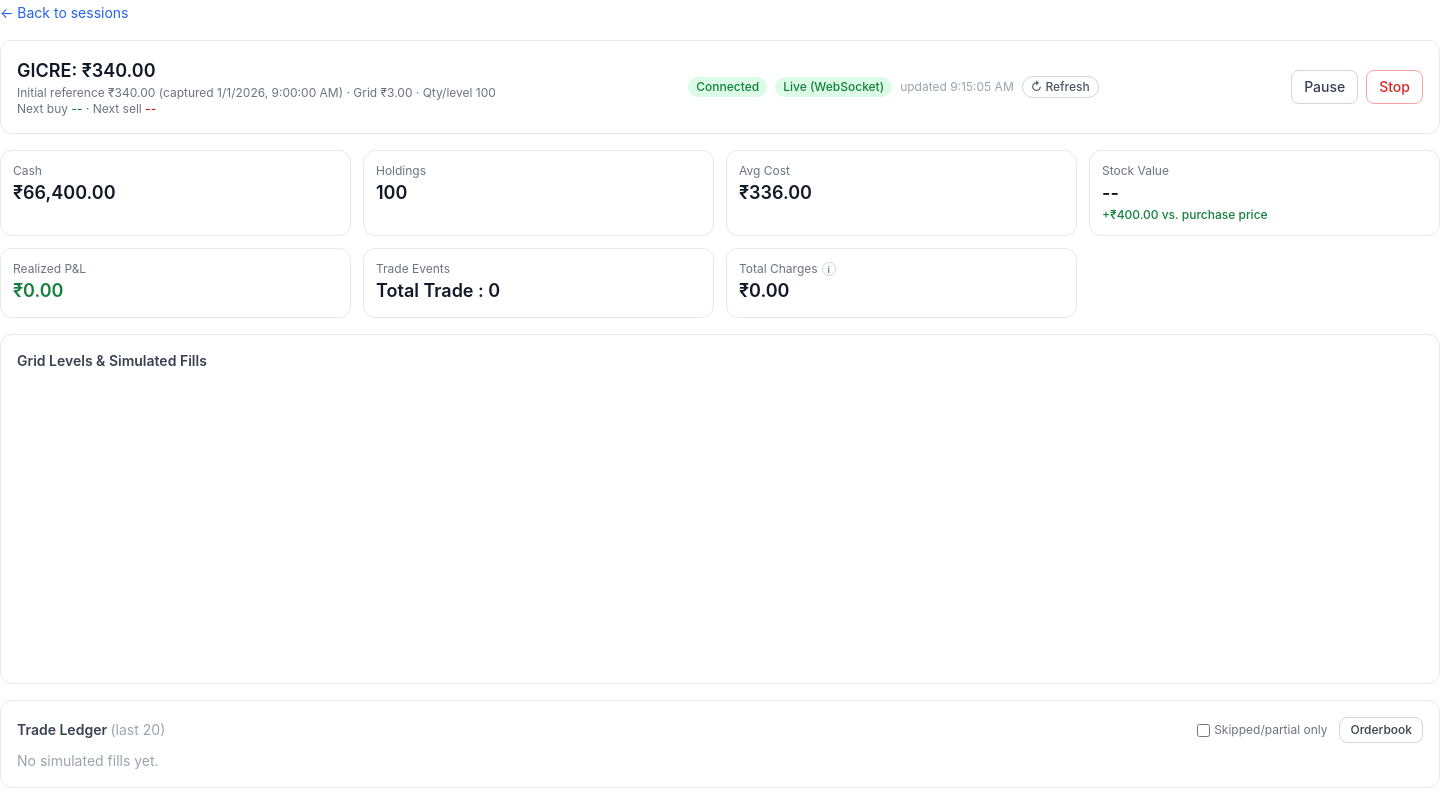
Scenario: GridSimulatorDetail › closing the Orderbook modal hides it
Expected: the heading "GICRE: ₹340.00" is shown, [17,60,156,81]
What coordinates should you click on to do the following:
click the button "Orderbook"
I would click on:
 (1381, 730)
Its box is [1340,717,1423,743].
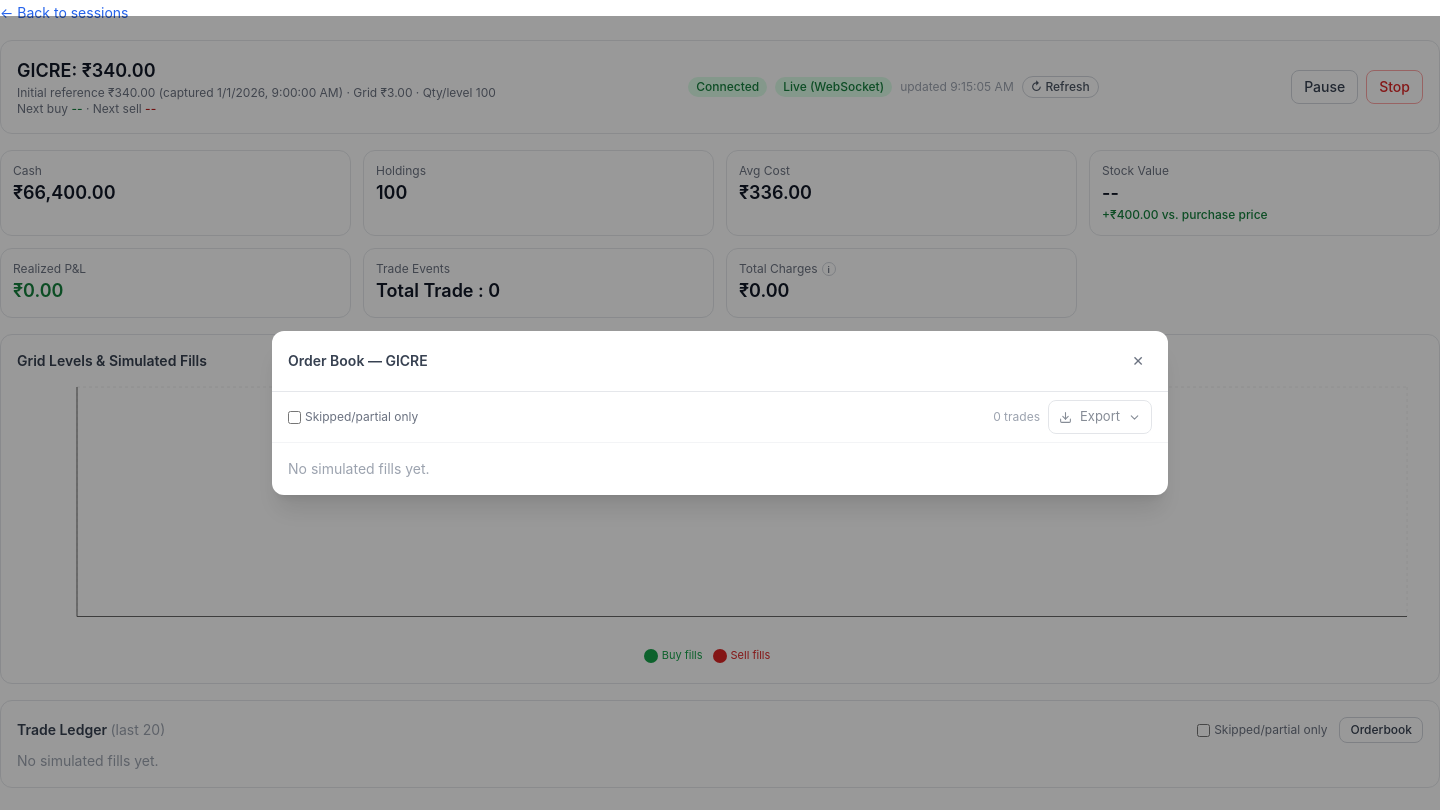
Result: the heading "Order Book — GICRE" is shown at [288,351,428,371]
What coordinates should you click on to do the following:
click the button "✕"
I would click on:
 (1138, 361)
Its box is [1124,347,1152,375].
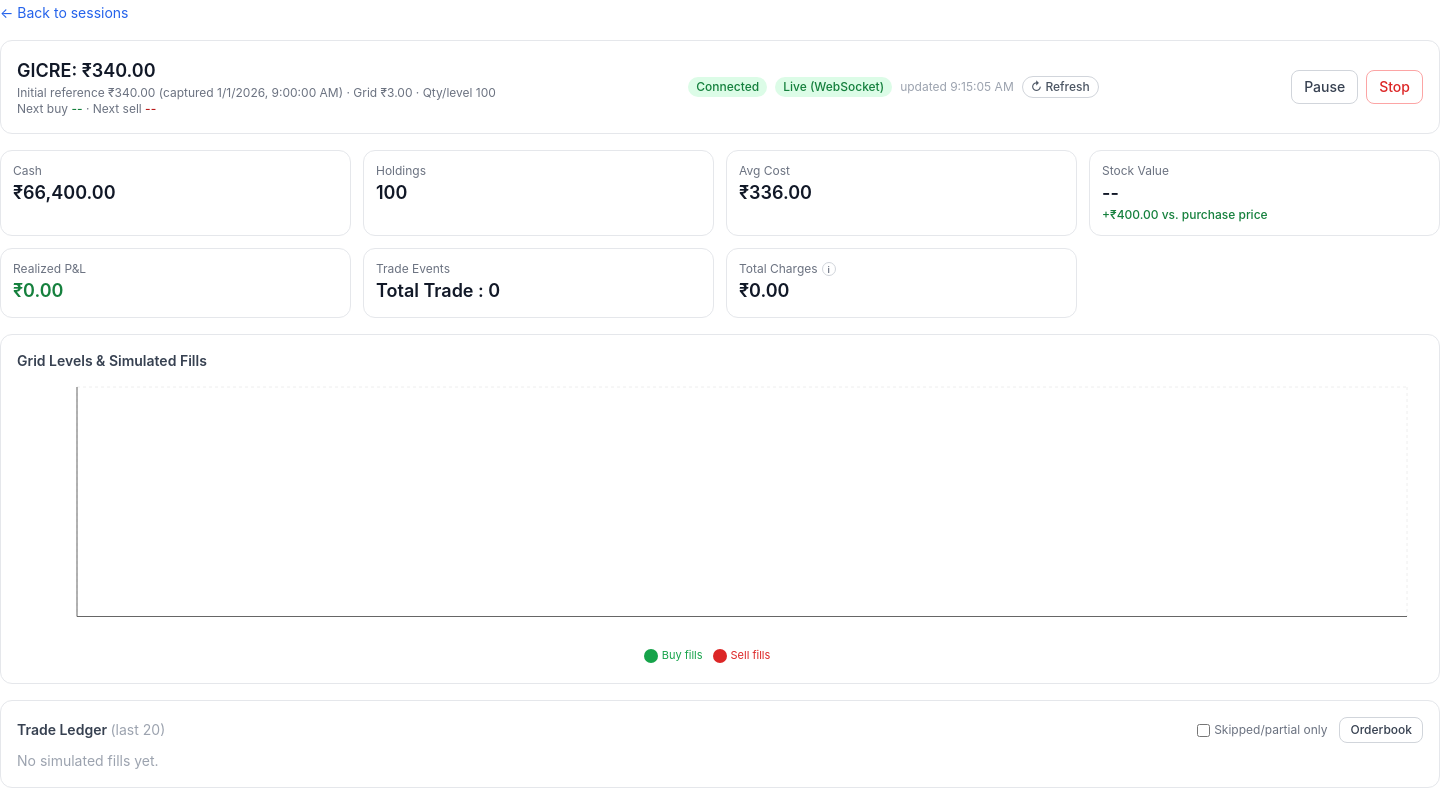
Result: the heading "Order Book — GICRE" is gone
